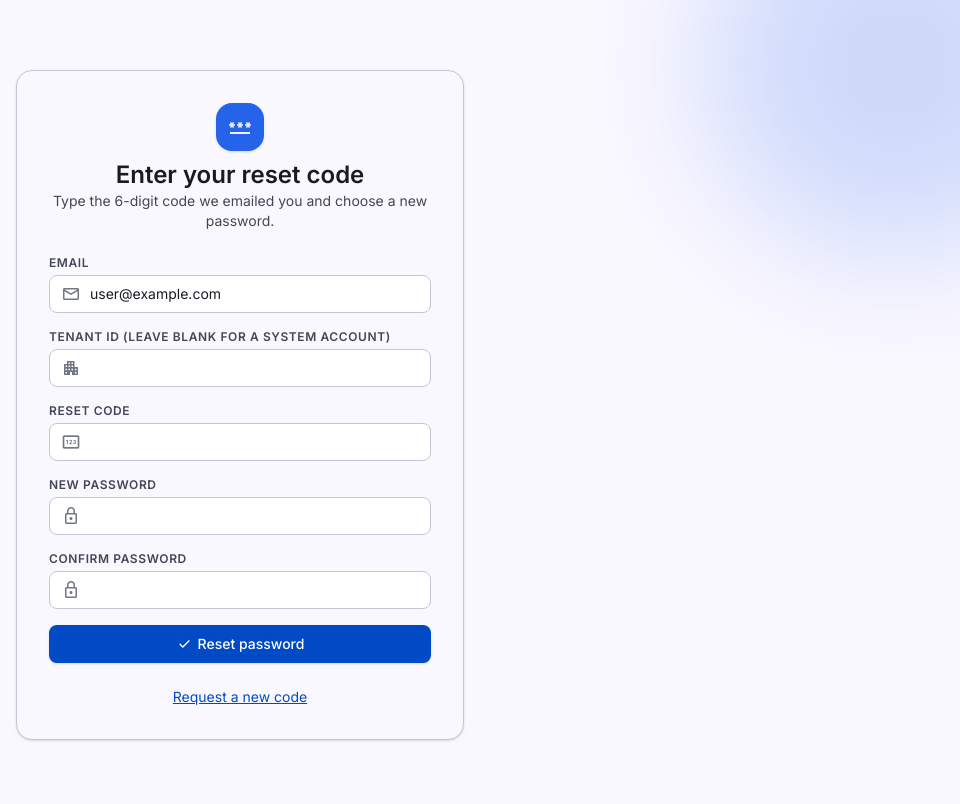
ResetPasswordPage › shows one opaque message for every INVALID_OTP cause
In the field labelled "Reset code": (240, 442) [49, 423, 431, 461], type "123456"
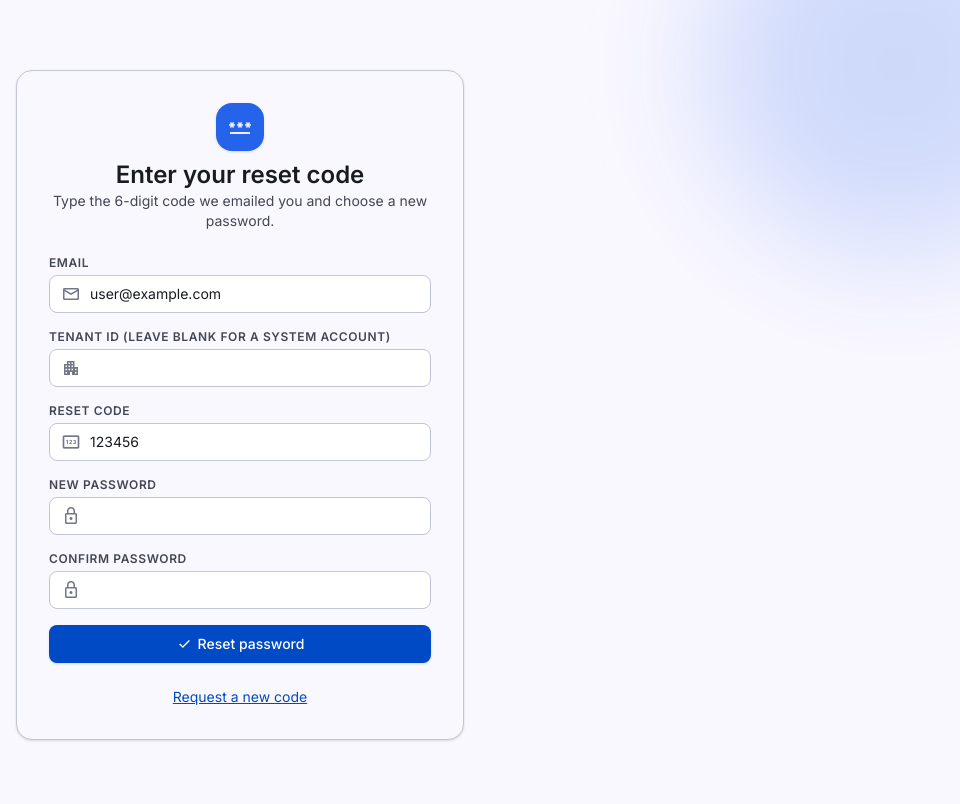
In the password field labelled "New password": (240, 516) [49, 497, 431, 535], type "Str0ng!Passphrase"
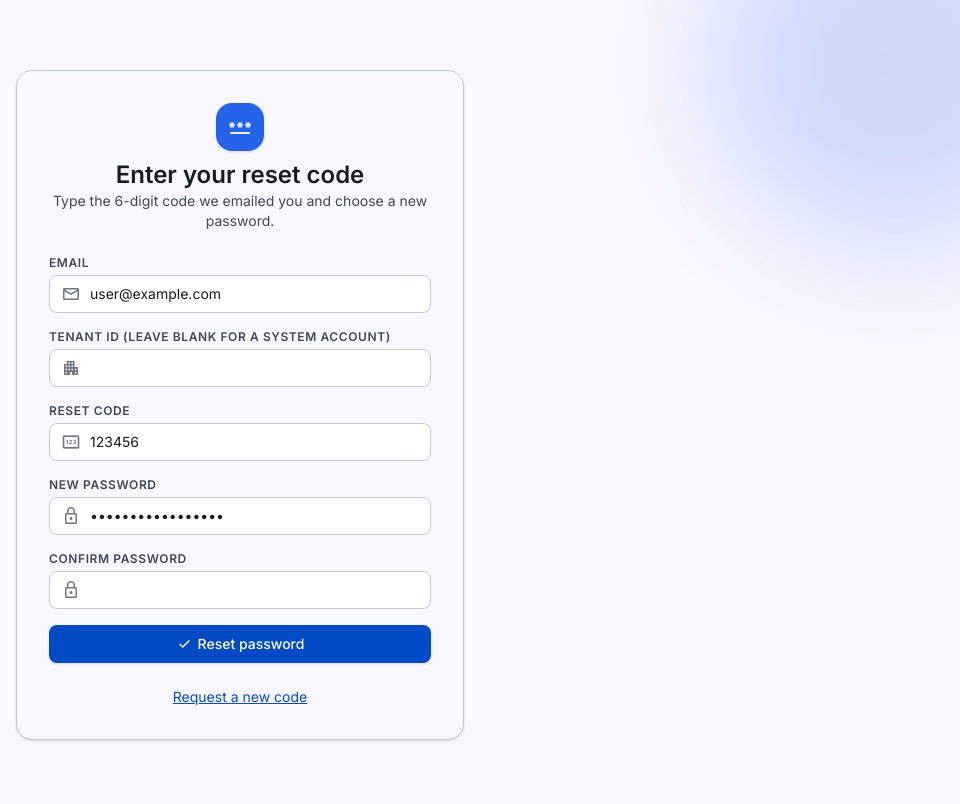
In the password field labelled "Confirm password": (240, 590) [49, 571, 431, 609], type "Str0ng!Passphrase"
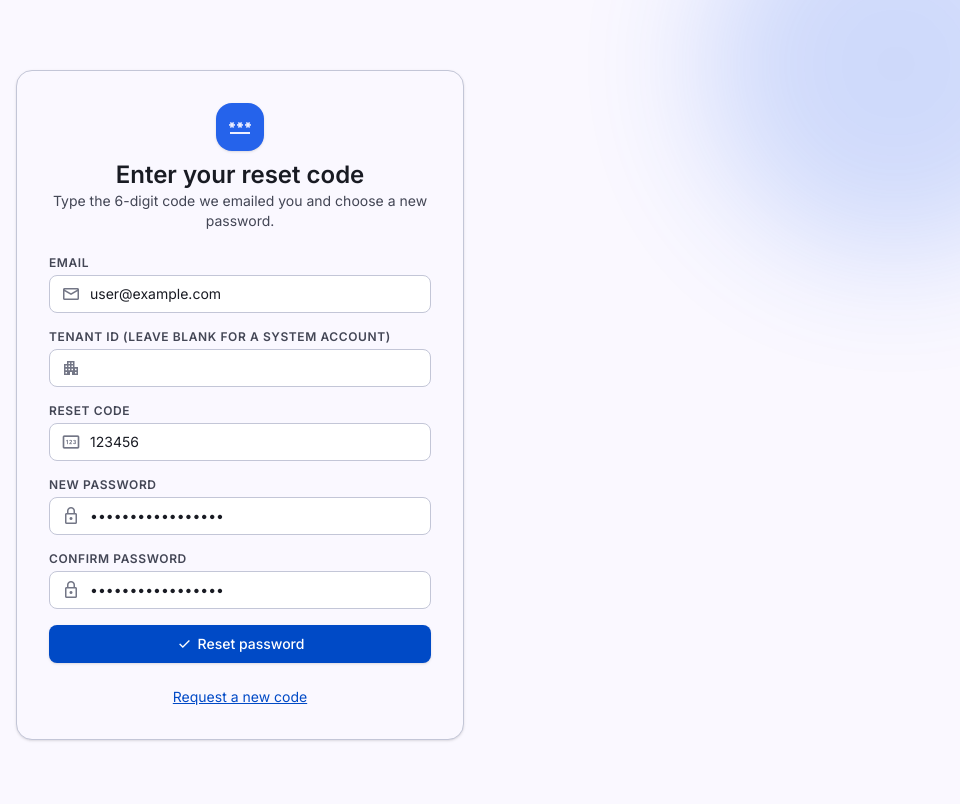
Click the button "Reset password": (240, 644) [49, 625, 431, 663]
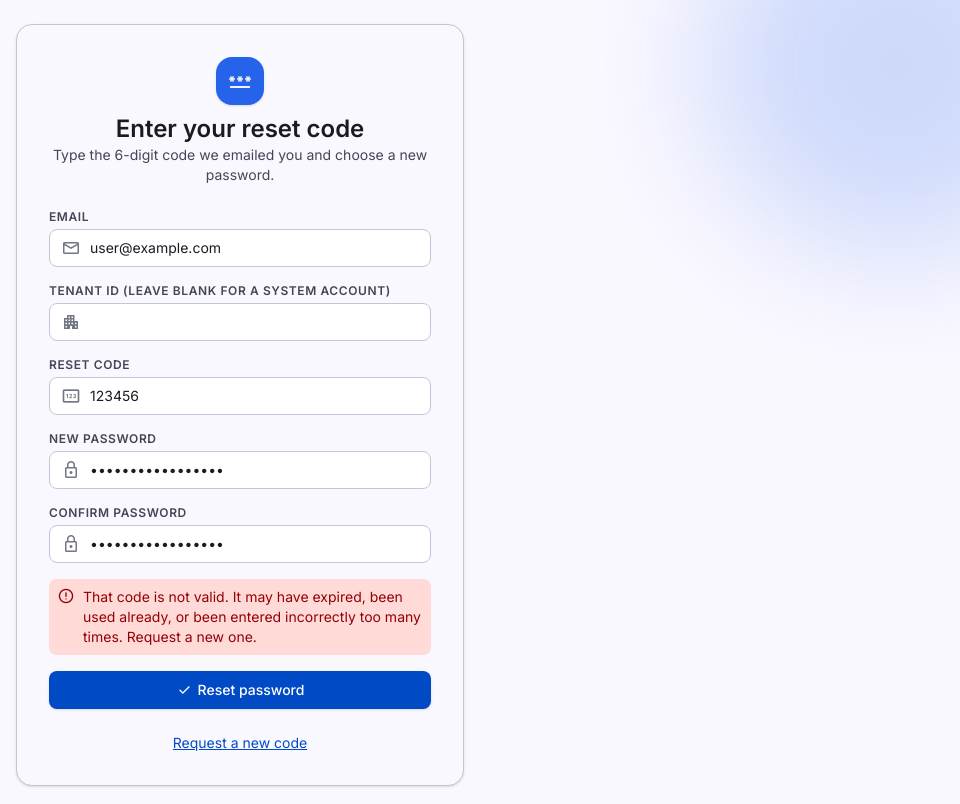
Result: the text "That code is not valid" is shown at [83, 588, 421, 645]
